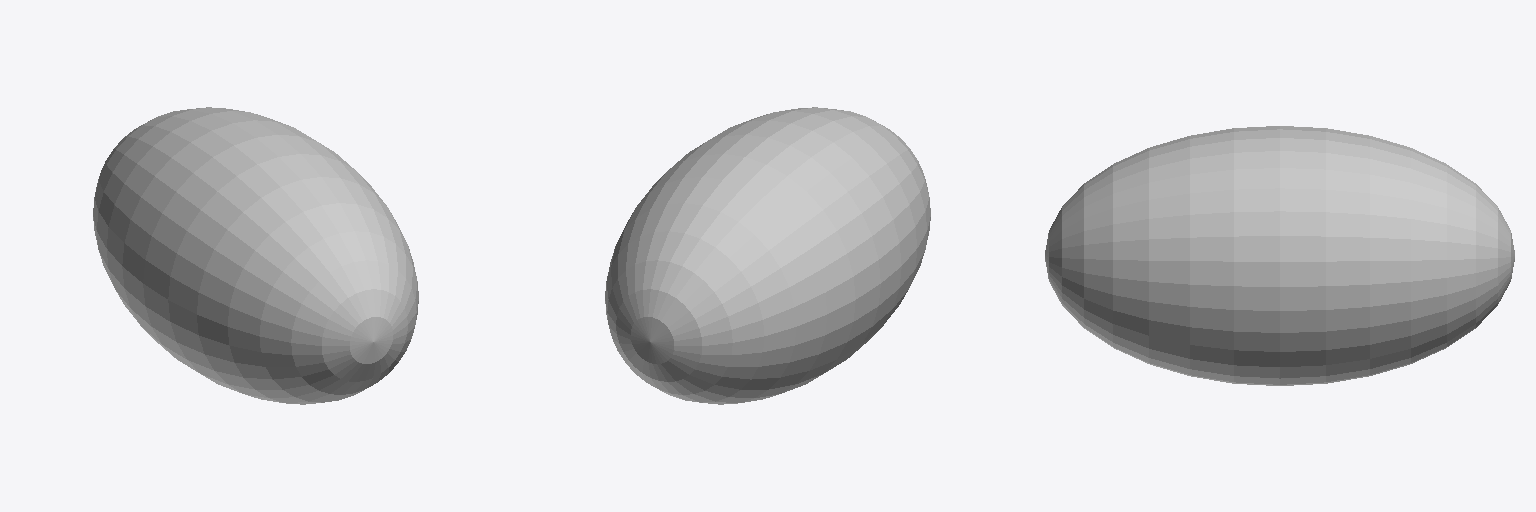
Rendered from Player.obj.
The picture shows the model from 3 angles: view 1: azimuth 30°, elevation 25°; view 2: azimuth 150°, elevation 25°; view 3: azimuth 270°, elevation 25°; orthographic projection.
Parts seen in each view (by area): view 1: Sphere; view 2: Sphere; view 3: Sphere.
Boxes of the visible parts, x1=… form: Sphere: x1=93, y1=107, x2=418, y2=404; Sphere: x1=605, y1=107, x2=930, y2=404; Sphere: x1=1045, y1=126, x2=1514, y2=385.
Size of the model in its own units: 1.11 by 1.11 by 2.